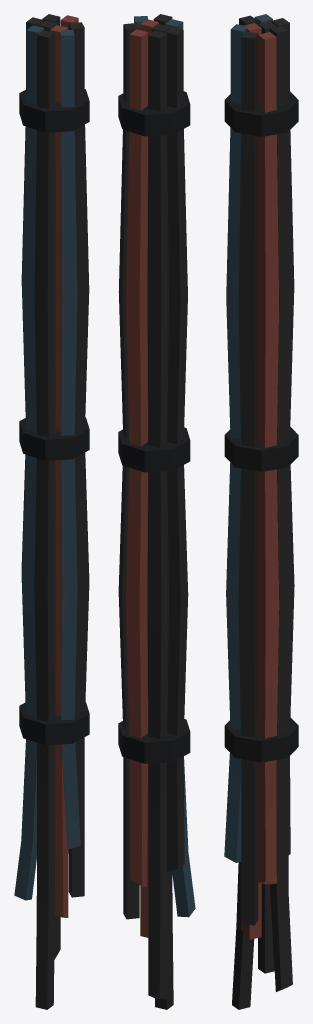
The model's file is SM_Prop_Wires_01.glb.
3 renders of one model, left to right at view 1: azimuth 30°, elevation 25°; view 2: azimuth 210°, elevation 25°; view 3: azimuth 270°, elevation 25°, orthographic. The views are drawn at different scales.
Visible parts, largest first — view 1: SM_Prop_Wires_01; view 2: SM_Prop_Wires_01; view 3: SM_Prop_Wires_01.
Boxes of the visible parts, x1,y1,x2,y2 form: SM_Prop_Wires_01: (14,14,89,1009); SM_Prop_Wires_01: (118,14,195,1009); SM_Prop_Wires_01: (224,14,298,1009).
Size of the model in its own units: 0.192 by 2.68 by 0.183.
1 material, 1 textured.
